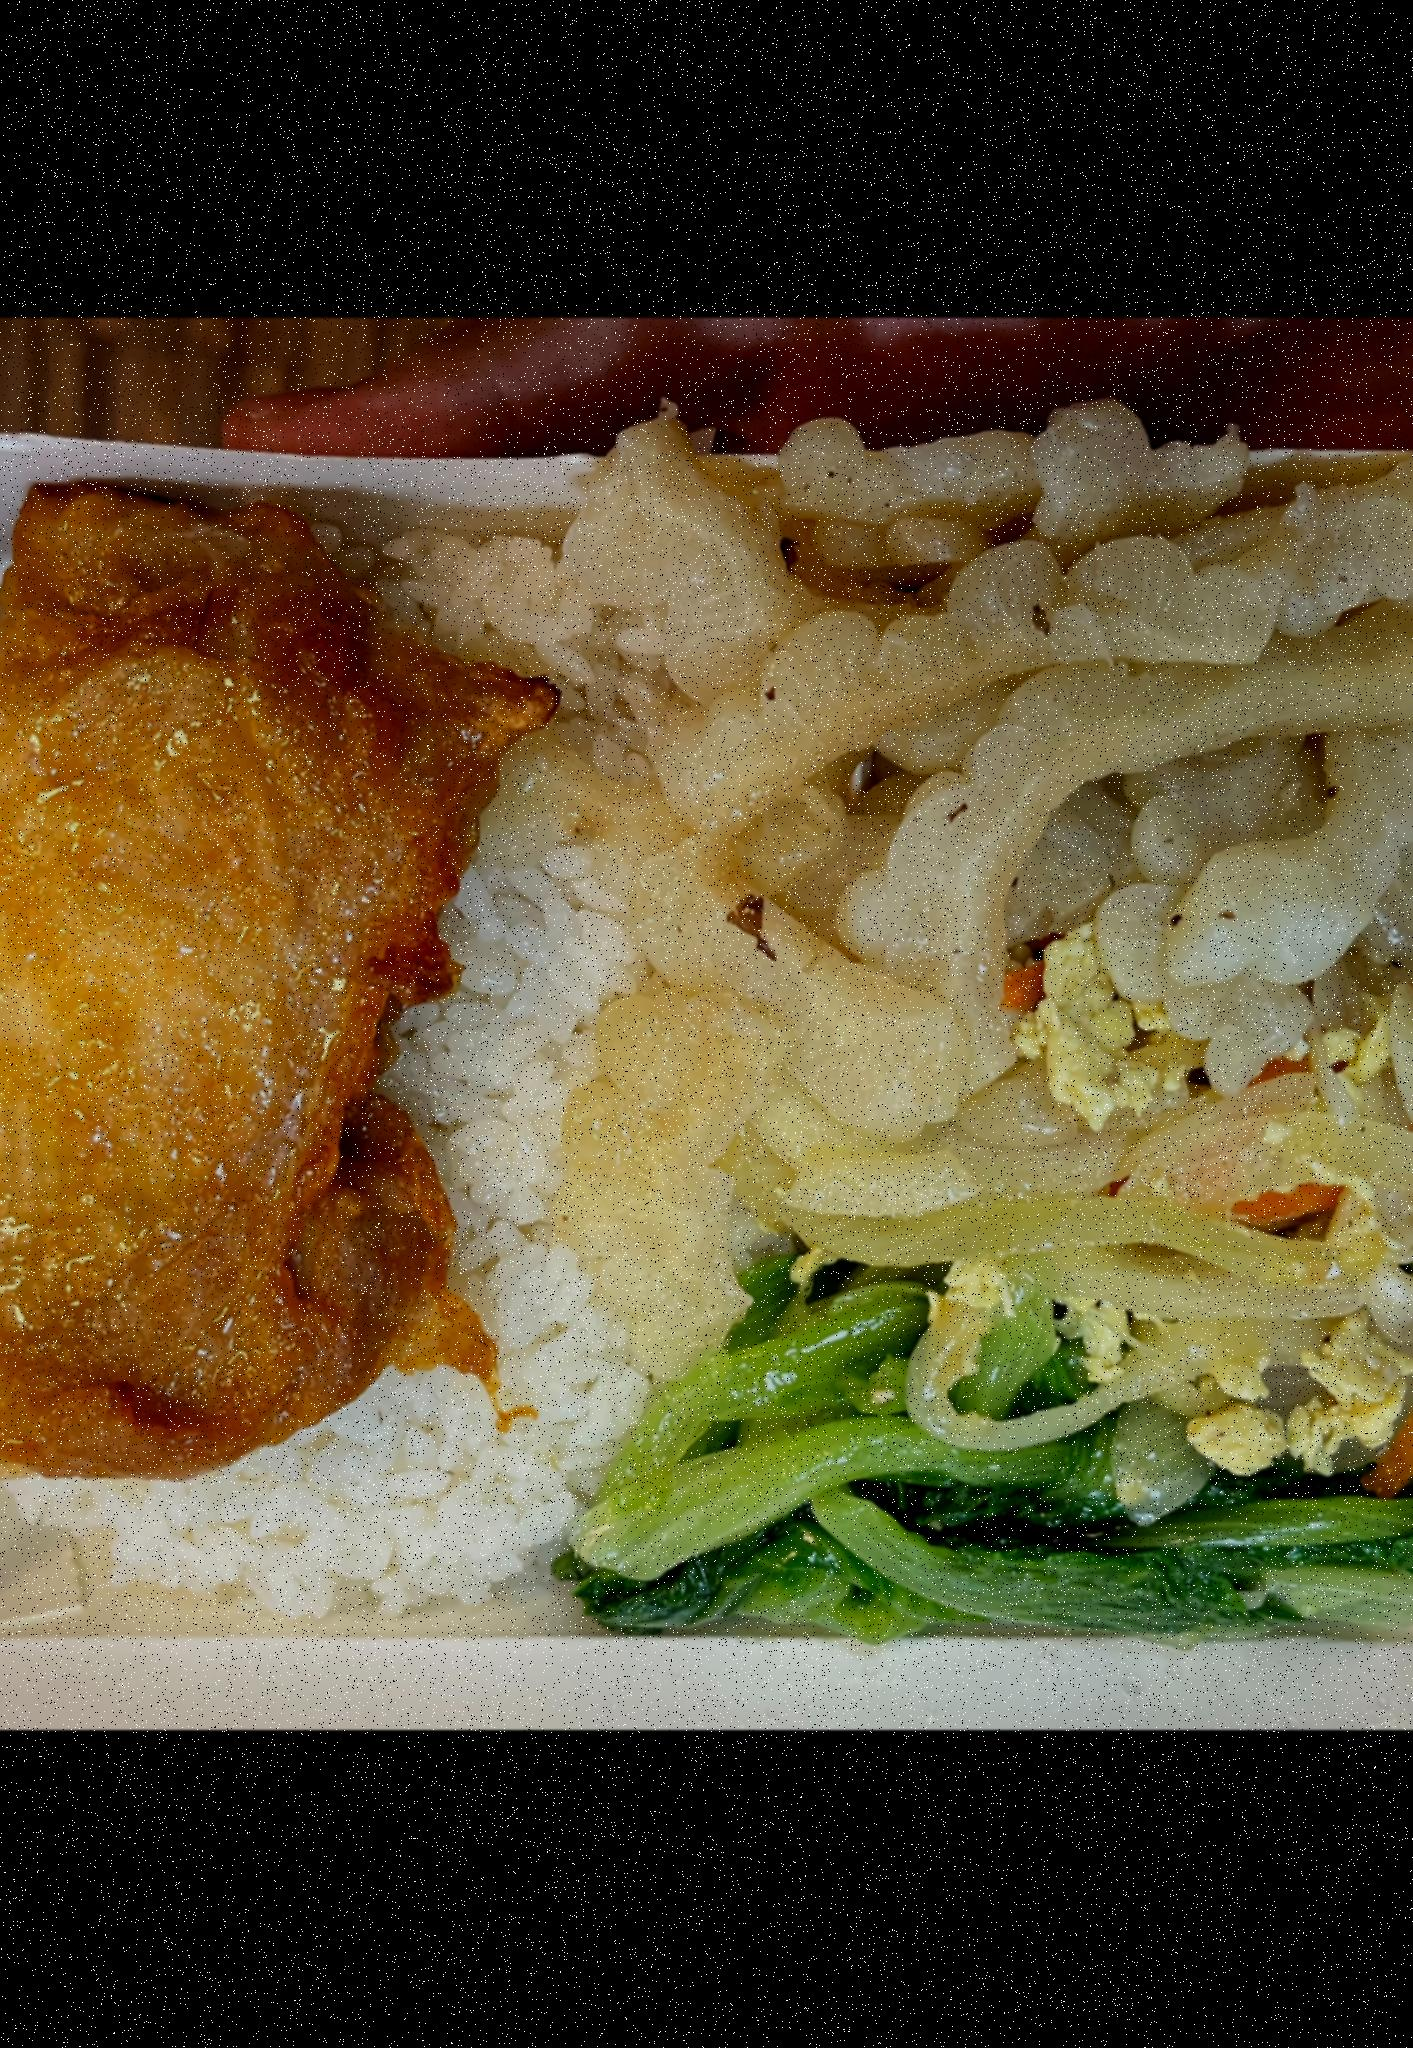box: (0, 388, 1413, 1684)
grilled chicken leg steak: (0, 468, 535, 1469)
side dish: (630, 419, 1413, 1010), (574, 900, 1413, 1345), (615, 1242, 1413, 1640)
white rice: (0, 489, 668, 1615)
